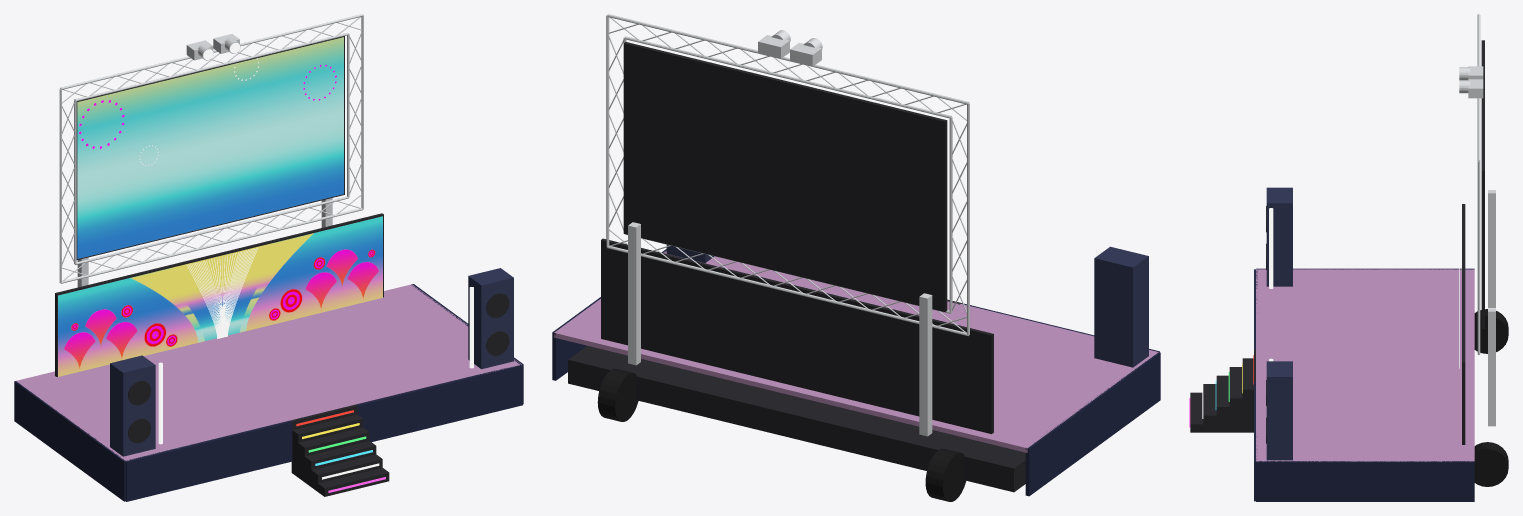
Rendered from float_lite.glb.
3 views of the same model, side by side, from view 1: azimuth 30°, elevation 25°; view 2: azimuth 150°, elevation 25°; view 3: azimuth 270°, elevation 25° (orthographic). The views are drawn at different scales.
Parts seen in each view (by area): view 1: 上方大看板_圖稿, 舞台地板, 下層背板_圖稿, 前裙板_左, 前裙板_右, 側裙板_左, 音箱塔_左, 音箱塔_右, LED霓虹燈條_#ffffff, 下層背板_圖稿_背框, 上方大看板_圖稿_背框, 樓梯_1 (+11 smaller); view 2: 上方大看板_圖稿_背框, 下層背板_圖稿_背框, 舞台地板, 貨車底盤, 側裙板_左, 音箱塔_左, 看板立柱_-1, 看板立柱_1, 輪胎_-1_1.6, 輪胎_1_1.6, 桁架外管_0, 桁架內管_2 (+5 smaller); view 3: 舞台地板, 側裙板_右, 音箱塔_右, 音箱塔_左, 輪胎_1_1.6, 上方大看板_圖稿_背框, 下層背板_圖稿_背框, 看板立柱_1, 看板立柱_-1, 樓梯_1, 樓梯_2, 輪胎_-1_1.6 (+7 smaller).
Boxes of the visible parts, box(x1,y1,x2,y2) form: 上方大看板_圖稿: box(77, 37, 343, 258); 舞台地板: box(16, 284, 521, 460); 下層背板_圖稿: box(58, 216, 382, 376); 前裙板_左: box(125, 420, 292, 501); 前裙板_右: box(356, 365, 522, 442); 側裙板_左: box(14, 381, 125, 501); 音箱塔_左: box(110, 355, 155, 456); 音箱塔_右: box(468, 268, 513, 369); LED霓虹燈條_#ffffff: box(186, 247, 258, 338); 下層背板_圖稿_背框: box(55, 213, 383, 376); 上方大看板_圖稿_背框: box(74, 36, 344, 259); 樓梯_1: box(291, 414, 362, 477); 上方大看板_圖稿_背框: box(623, 42, 947, 311); 下層背板_圖稿_背框: box(601, 238, 993, 434); 舞台地板: box(554, 251, 1158, 452); 貨車底盤: box(568, 345, 1025, 492); 側裙板_左: box(1025, 352, 1160, 496); 音箱塔_左: box(1094, 246, 1148, 367); 看板立柱_-1: box(919, 293, 932, 436); 看板立柱_1: box(628, 222, 640, 365); 輪胎_-1_1.6: box(925, 448, 966, 501); 輪胎_1_1.6: box(597, 369, 638, 421); 桁架外管_0: box(607, 246, 968, 335); 桁架內管_2: box(624, 36, 951, 118); 舞台地板: box(1256, 269, 1474, 461); 側裙板_右: box(1256, 461, 1474, 501); 音箱塔_右: box(1266, 361, 1292, 460); 音箱塔_左: box(1266, 187, 1292, 286); 輪胎_1_1.6: box(1474, 442, 1508, 486); 上方大看板_圖稿_背框: box(1481, 40, 1484, 328); 下層背板_圖稿_背框: box(1462, 204, 1465, 444); 看板立柱_1: box(1488, 308, 1495, 426); 看板立柱_-1: box(1488, 190, 1495, 307); 樓梯_1: box(1242, 358, 1253, 432); 樓梯_2: box(1229, 367, 1242, 432); 輪胎_-1_1.6: box(1474, 309, 1508, 353).
Size of what is drawn, in the model's own units: 10.48 by 8.64 by 7.3.
Materials: 18 (2 with a texture image).
